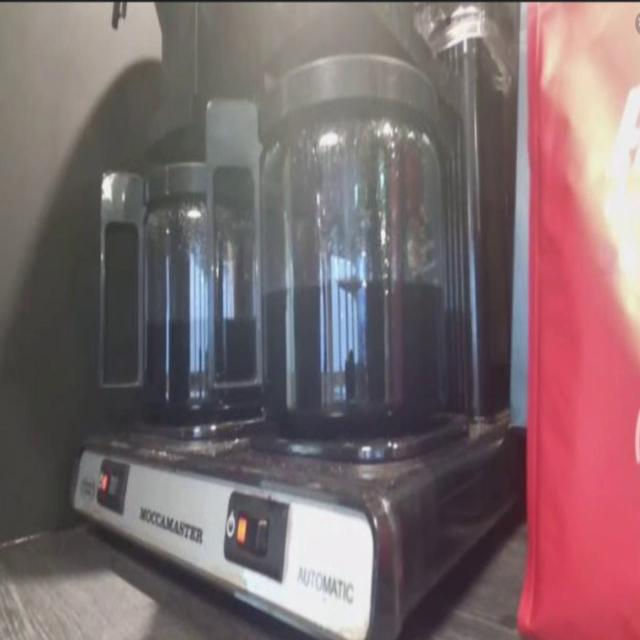coffee: (247, 42, 454, 440), (128, 141, 267, 439)
